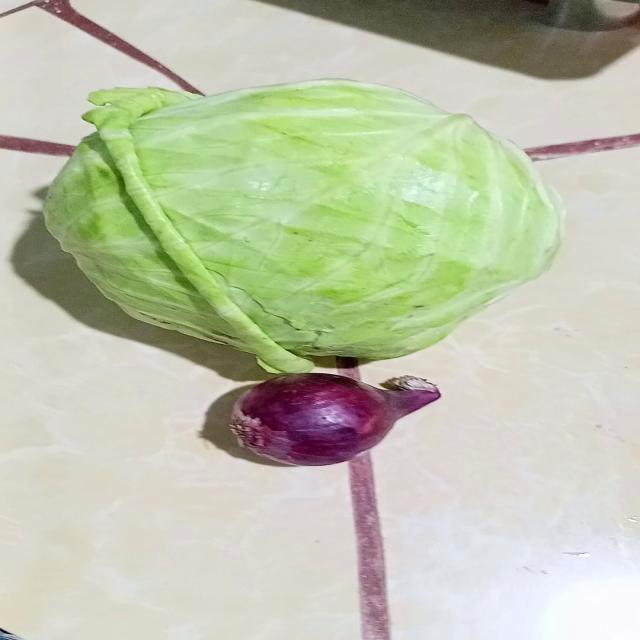cabbage: (43, 79, 565, 371)
onion: (224, 370, 442, 470)
